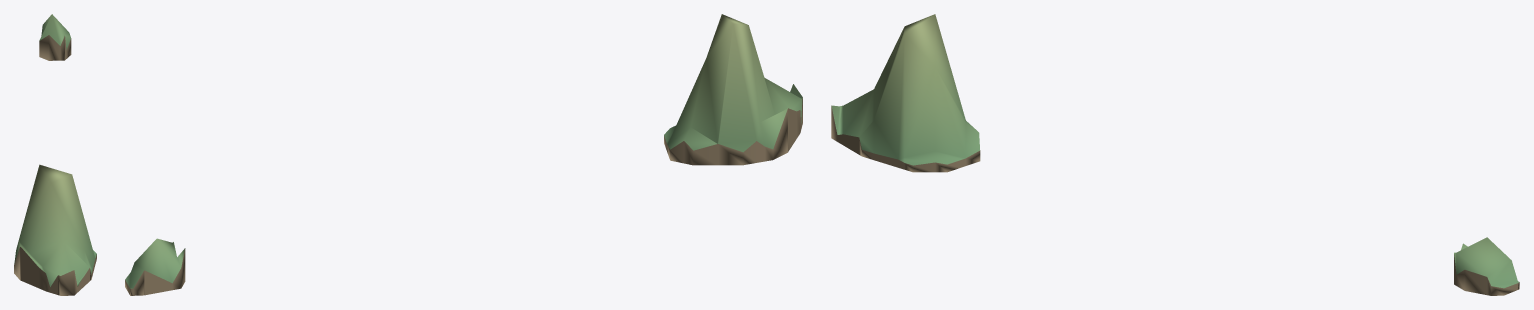
Rendered from STP.glb.
3 views of the same model, side by side, from view 1: azimuth 30°, elevation 25°; view 2: azimuth 150°, elevation 25°; view 3: azimuth 270°, elevation 25° (orthographic). The views are drawn at different scales.
Parts seen in each view (by area): view 1: STP; view 2: STP; view 3: STP.
Part boxes in pixels (left/top/right/bottom): STP: left=14, top=14, right=96, bottom=295; STP: left=125, top=14, right=802, bottom=295; STP: left=831, top=14, right=1519, bottom=295.
Size of the model in its own units: 0.9813 by 0.338 by 1.65.
